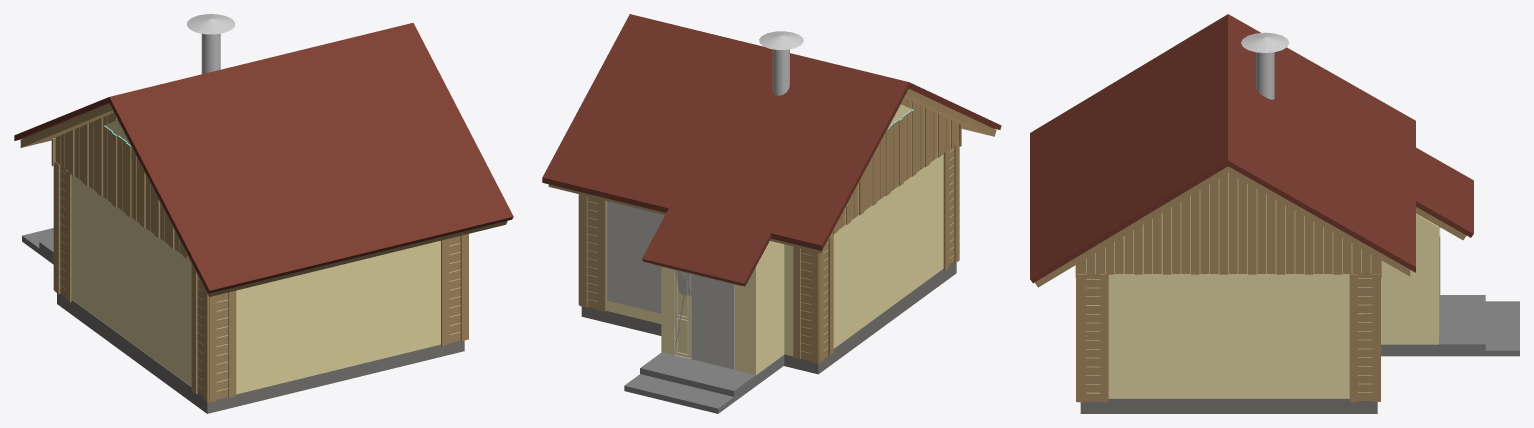
The model's file is house4.fbx.
3 renders of one model, left to right at view 1: azimuth 30°, elevation 25°; view 2: azimuth 150°, elevation 25°; view 3: azimuth 270°, elevation 25°, orthographic. The views are drawn at different scales.
Parts seen in each view (by area): view 1: jumts1, muuris2_1, jumtadeli1, Cube2_1, kore1, G_2vertdel001_1, G_2vertdel002_1, G_2vertdel006_1, G_2vertdel003_1, hordelisi002_1, hordelisi001_1, Cutcone1 (+4 smaller); view 2: jumts1, muuris2_1, jumtadeli1, slieksnis1, llogsq1, durlogiq1, Cube2_1, kore1, G_2vertdel004_1, G_2vertdel007_1, G_2vertdel003_1, G_2vertdel006_1 (+6 smaller); view 3: jumts1, muuris2_1, jumtadeli1_1, slieksnis1, Cube2_1, kore1, G_2vertdel1, G_2vertdel005_1, hordelisi005_1, hordelisi1, Cylinder1, Cutcone1.
Part boxes in pixels (x1,y1,x2,y2): jumts1: [14, 22, 513, 293]; muuris2_1: [60, 119, 460, 394]; jumtadeli1: [55, 113, 189, 259]; Cube2_1: [57, 293, 464, 413]; kore1: [20, 103, 507, 296]; G_2vertdel001_1: [441, 234, 468, 345]; G_2vertdel002_1: [209, 290, 236, 402]; G_2vertdel006_1: [54, 161, 71, 302]; G_2vertdel003_1: [191, 264, 208, 402]; hordelisi002_1: [216, 292, 228, 399]; hordelisi001_1: [449, 236, 460, 343]; Cutcone1: [187, 14, 235, 34]; jumts1: [542, 14, 1001, 286]; muuris2_1: [587, 102, 954, 374]; jumtadeli1: [831, 98, 958, 234]; slieksnis1: [624, 352, 784, 413]; llogsq1: [607, 201, 664, 313]; durlogiq1: [674, 270, 734, 369]; Cube2_1: [581, 261, 956, 374]; kore1: [548, 89, 996, 285]; G_2vertdel004_1: [580, 194, 605, 311]; G_2vertdel007_1: [793, 246, 818, 363]; G_2vertdel003_1: [943, 142, 959, 270]; G_2vertdel006_1: [819, 234, 833, 363]; jumts1: [1030, 14, 1473, 283]; muuris2_1: [1086, 173, 1438, 398]; jumtadeli1_1: [1077, 173, 1379, 274]; slieksnis1: [1381, 295, 1519, 356]; Cube2_1: [1080, 398, 1377, 413]; kore1: [1034, 166, 1466, 287]; G_2vertdel1: [1077, 274, 1108, 402]; G_2vertdel005_1: [1349, 273, 1380, 401]; hordelisi005_1: [1358, 273, 1372, 400]; hordelisi1: [1086, 274, 1100, 401]; Cylinder1: [1256, 52, 1274, 99]; Cutcone1: [1241, 32, 1289, 52].
Size of the model in its own units: 0.328 by 0.3127 by 0.4635.
